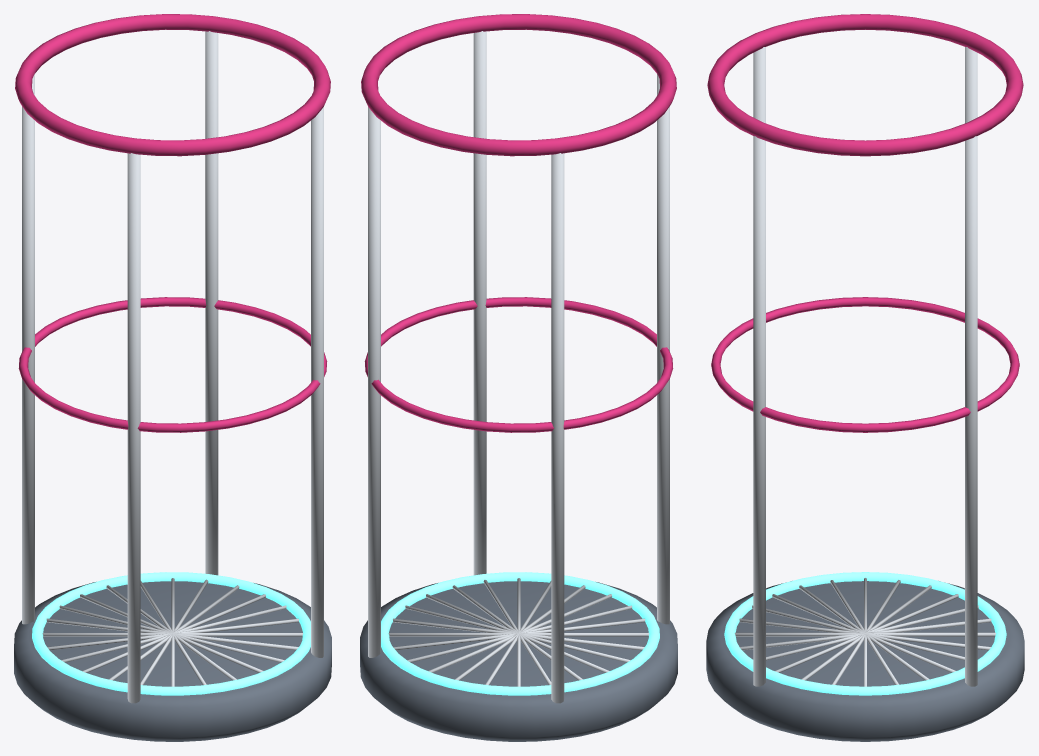
The model's file is wind_tunnel.glb.
The picture shows the model from 3 angles, left to right: view 1: azimuth 30°, elevation 25°; view 2: azimuth 150°, elevation 25°; view 3: azimuth 270°, elevation 25°; orthographic projection.
Parts seen in each view (by area): view 1: Body; view 2: Body; view 3: Body.
Boxes of the visible parts, left/top/right/bottom form: Body: left=14, top=14, right=331, bottom=741; Body: left=360, top=14, right=677, bottom=741; Body: left=706, top=14, right=1024, bottom=741.
Bounding box in the file's own units: 3.4 × 7.09 × 3.4.
